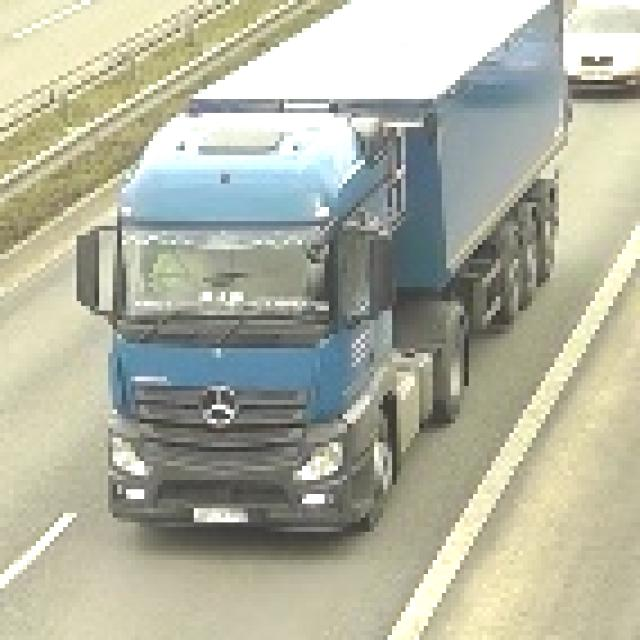TRUCK: (90, 6, 574, 544)
